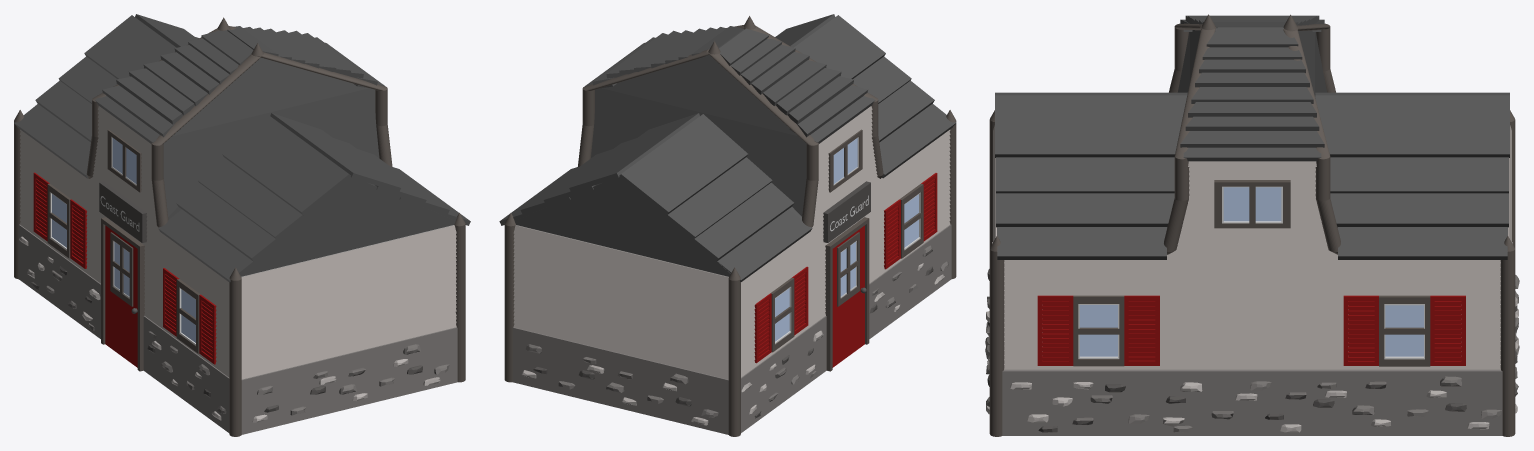
The model's file is coastgaurdstation1.glb.
3 views of the same model, side by side, from view 1: azimuth 30°, elevation 25°; view 2: azimuth 150°, elevation 25°; view 3: azimuth 270°, elevation 25° (orthographic). The views are drawn at different scales.
Parts seen in each view (by area): view 1: baseboard4, baseboard1, Cube.002, Cube.004, Cube.021, Cube, Cube.020, Cube.019, Cube.107, Cube.013, door, Cube.022 (+71 smaller); view 2: baseboard3, baseboard1, Cube.003, Cube.004, Cube.107, Cube, Cube.024, Cube.023, Cube.021, Cube.022, door, Cube.013 (+72 smaller); view 3: baseboard2, Cube.111, Cube.115, Cube.110, Cube.114, Cube.109, Cube.113, Cube.108, Cube.112, panel.007, panel4.007, Cylinder.004 (+67 smaller).
Boxes of the visible parts, <box> form: baseboard4: <box>241,327,457,434</box>; baseboard1: <box>18,224,229,432</box>; Cube.002: <box>168,175,455,276</box>; Cube.004: <box>163,88,379,216</box>; Cube.021: <box>222,114,351,215</box>; Cube: <box>173,58,368,135</box>; Cube.020: <box>198,157,324,240</box>; Cube.019: <box>176,183,301,261</box>; Cube.107: <box>84,15,176,79</box>; Cube.013: <box>158,209,278,282</box>; door: <box>105,225,137,367</box>; Cube.022: <box>14,104,90,178</box>; baseboard3: <box>512,327,728,434</box>; baseboard1: <box>741,224,951,432</box>; Cube.003: <box>514,175,801,276</box>; Cube.004: <box>591,88,806,216</box>; Cube.107: <box>619,114,747,215</box>; Cube: <box>602,29,797,135</box>; Cube.024: <box>645,157,772,240</box>; Cube.023: <box>669,182,793,261</box>; Cube.021: <box>794,15,885,79</box>; Cube.022: <box>717,209,812,281</box>; door: <box>832,225,864,367</box>; Cube.013: <box>879,103,956,178</box>; baseboard2: <box>1002,369,1502,435</box>; Cube.111: <box>1315,95,1509,157</box>; Cube.115: <box>995,95,1187,157</box>; Cube.110: <box>1330,157,1508,193</box>; Cube.114: <box>996,157,1174,193</box>; Cube.109: <box>1330,193,1508,227</box>; Cube.113: <box>996,193,1174,227</box>; Cube.108: <box>1338,227,1507,259</box>; Cube.112: <box>997,227,1166,259</box>; panel.007: <box>1004,281,1500,286</box>; panel4.007: <box>1004,267,1500,272</box>; Cylinder.004: <box>1500,249,1515,436</box>.
Bounding box in the file's own units: 6.58 × 7.66 × 10.47.
Materials: 10 (1 with a texture image).
